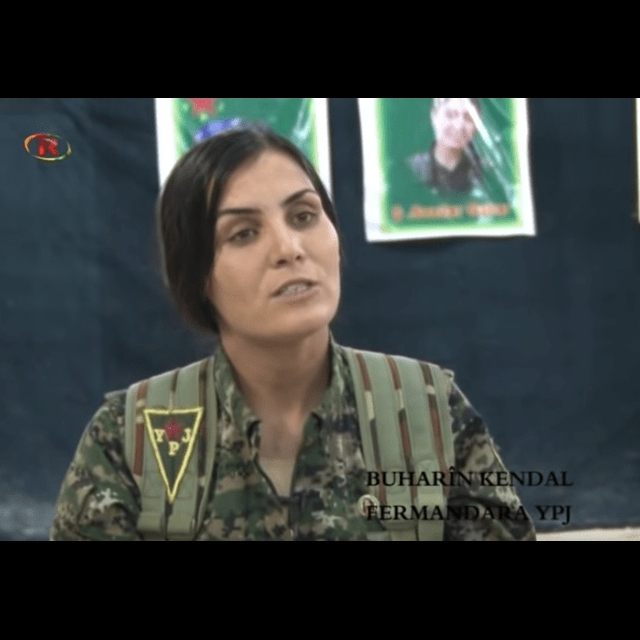YPJ: (134, 407, 205, 505)
